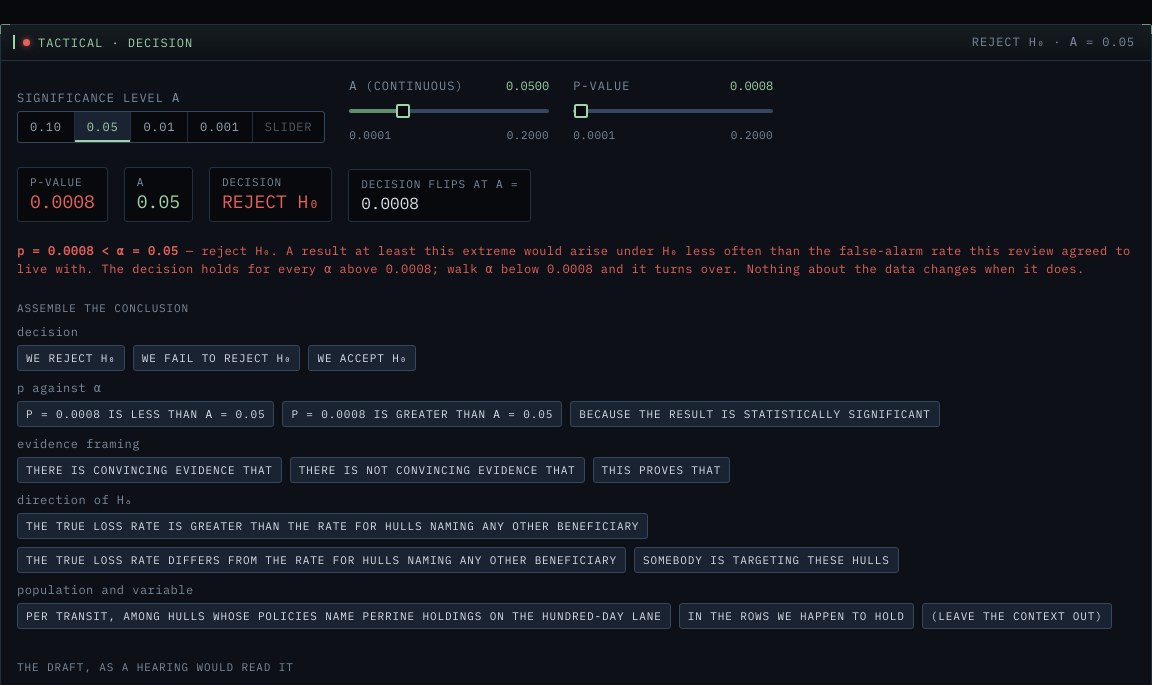
Test case: <DecisionConsole> (act-6-05) › grades the assembled sentence live, with the same rubric as the mission beat
The image size is (1152, 685).
Click the button "We reject H₀". click: (71, 358)
box: [17,345,125,371]
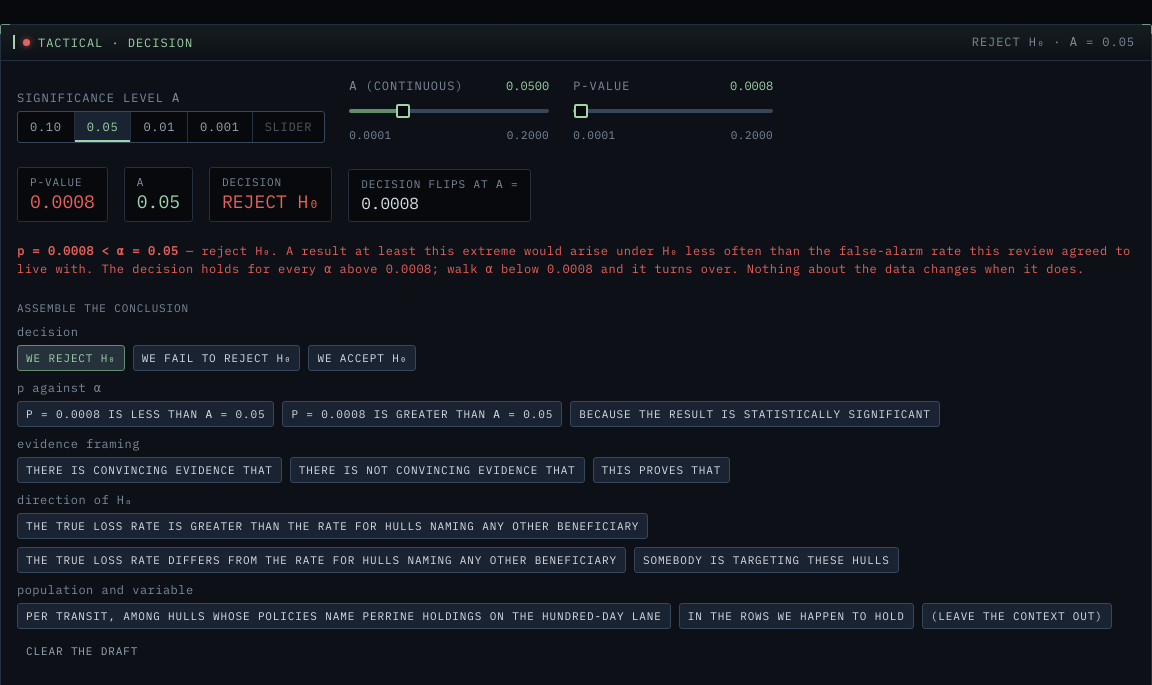
Click the button "p = 0.0008 is less than α = 0.05". click: (146, 414)
box: [17,401,274,427]
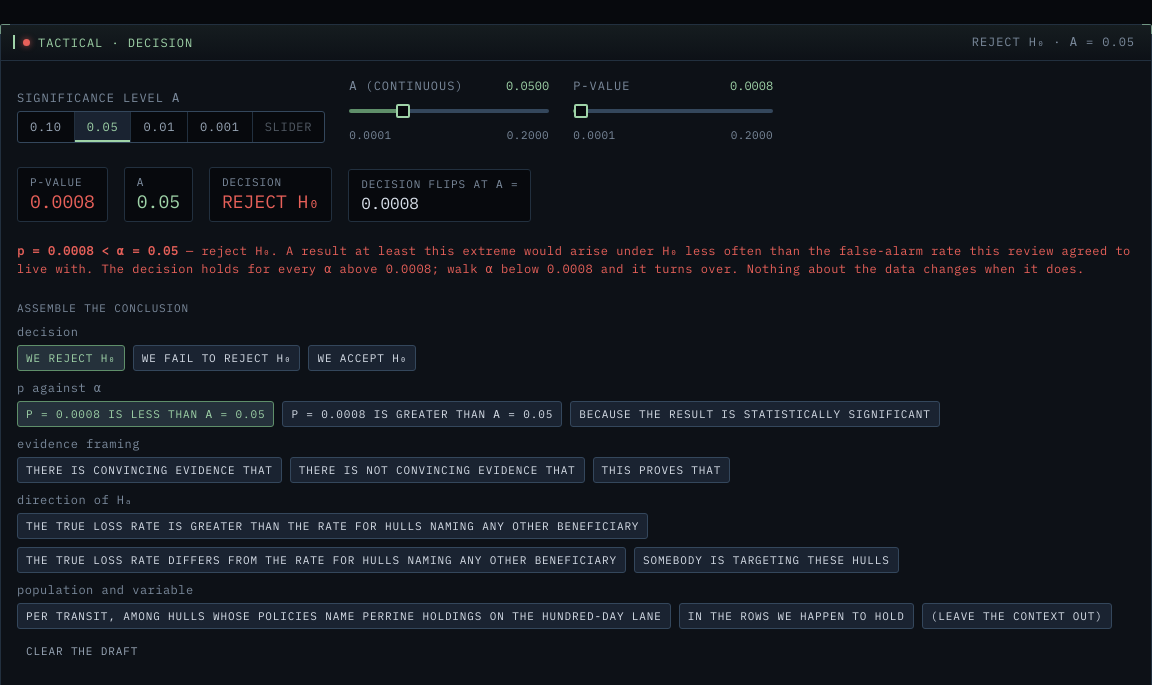
Click the button "There is convincing evidence that". click: (149, 470)
box: [17,457,282,483]
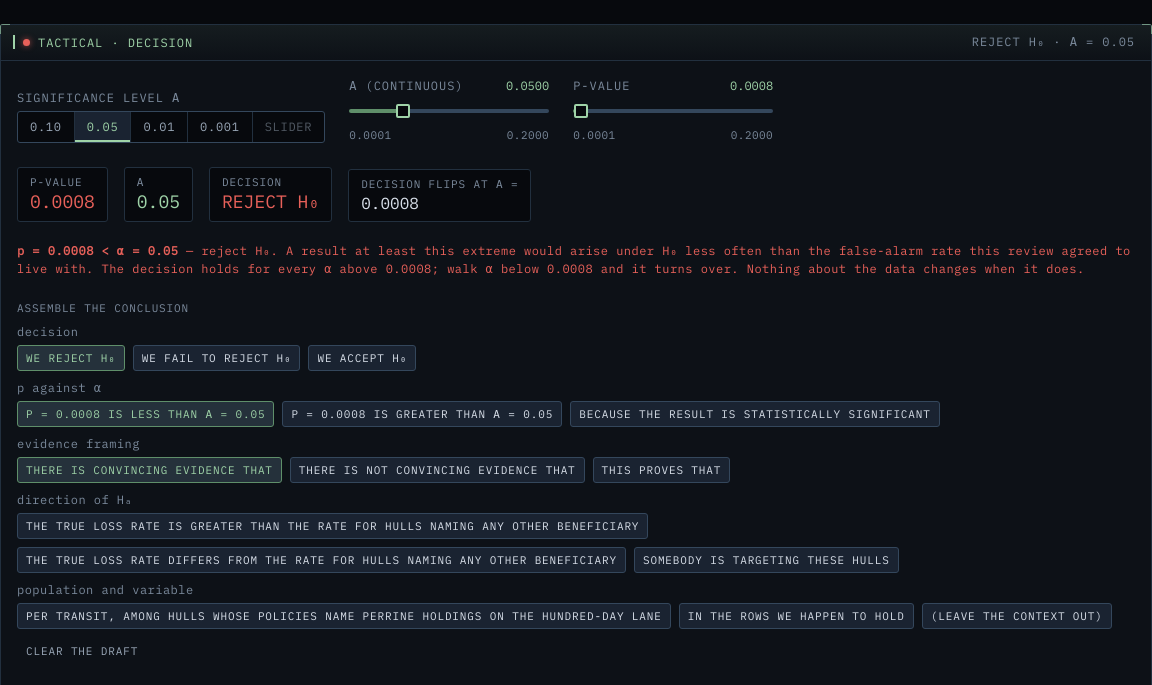
Click the button "the true loss rate is greater than". click: (333, 526)
box: [17,513,648,539]
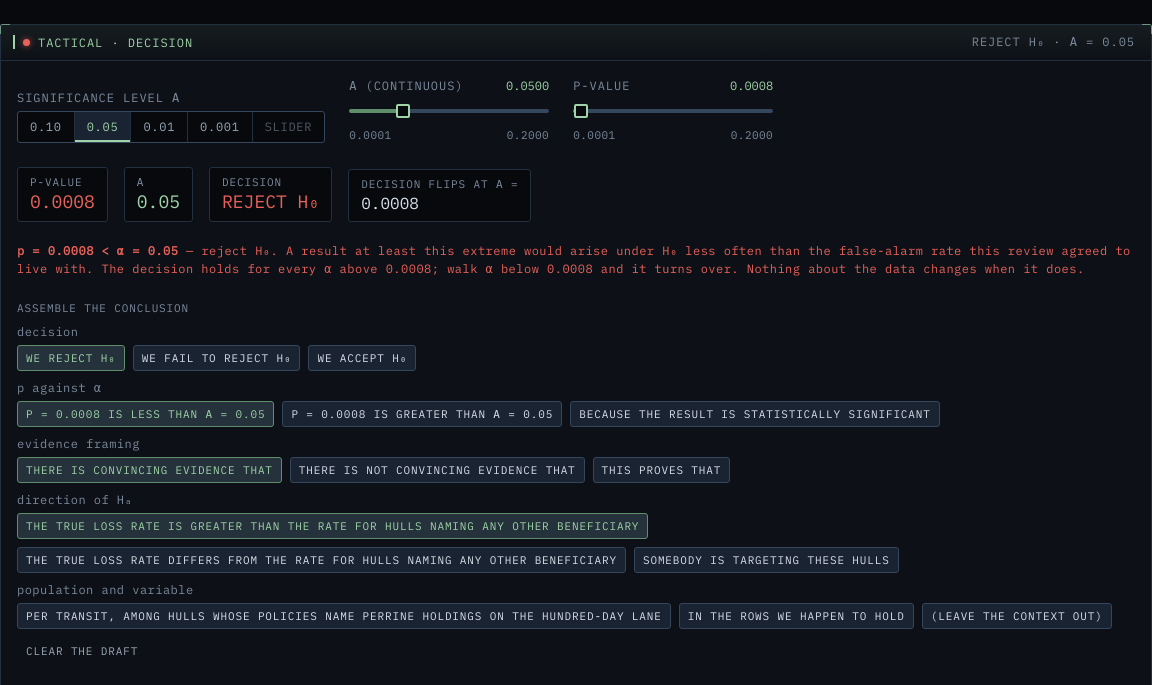
Click the button "per transit, among hulls whose policies". click: (344, 616)
box: [17,603,671,629]
(page scrolled)
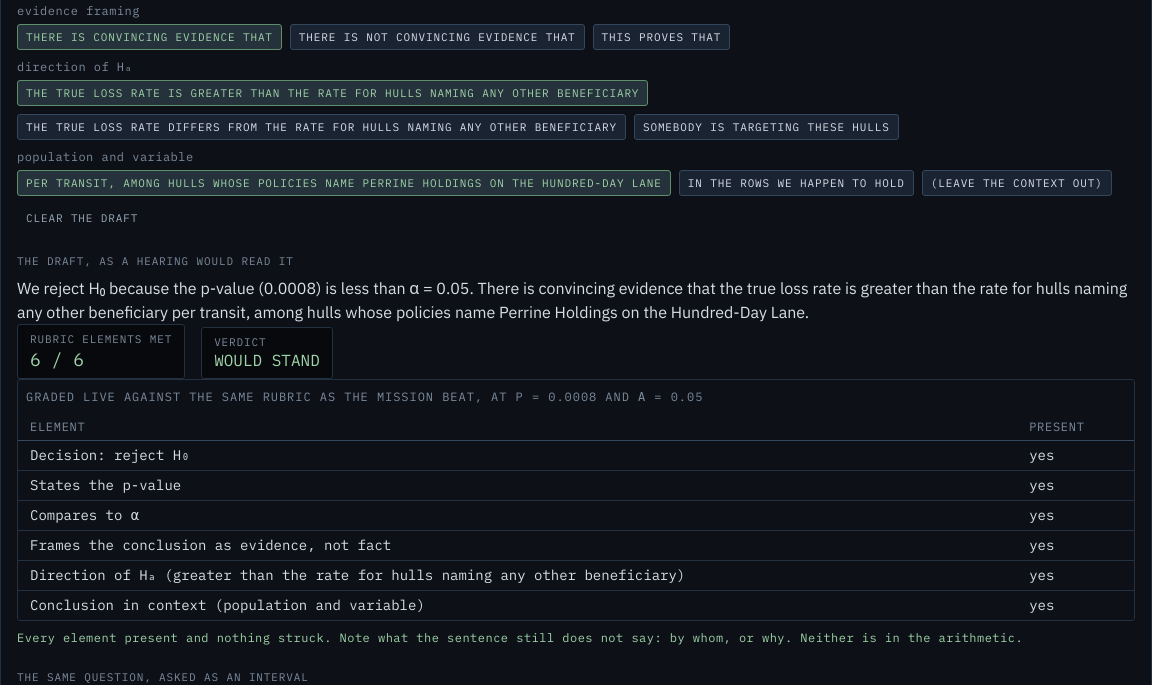
Check: the text with class "dr-readout__value" reads "WOULD STAND", box [214,350,320,370]
